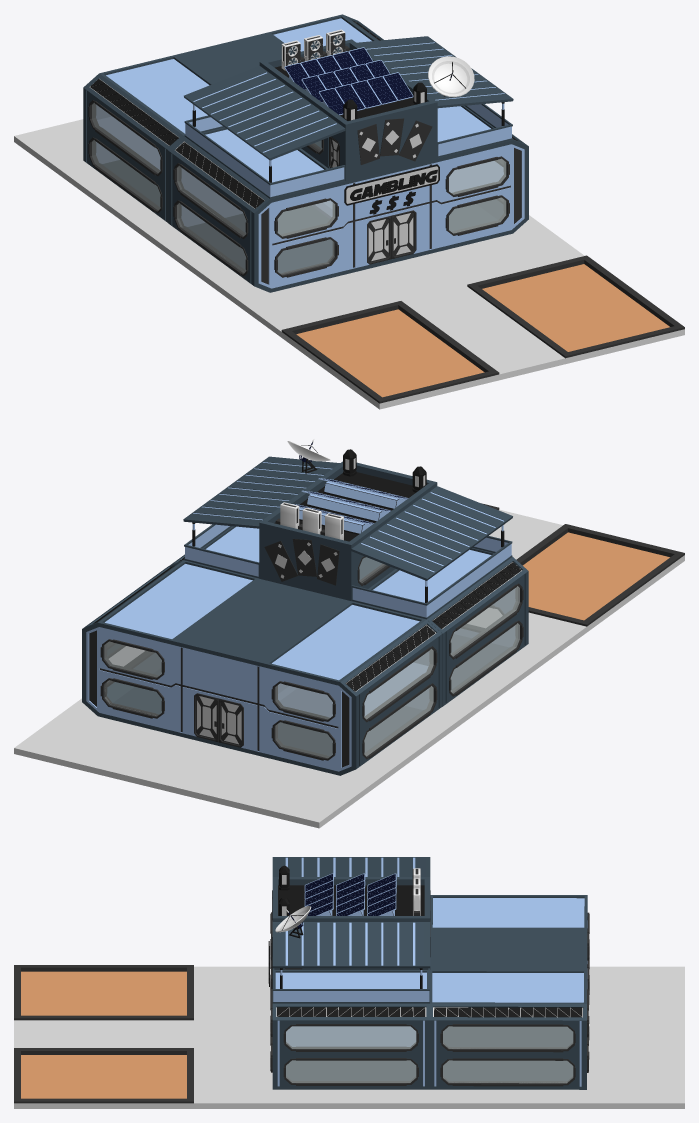
Rendered from CASINO.fbx.
The picture shows the model from 3 angles, top to bottom: view 1: azimuth 30°, elevation 25°; view 2: azimuth 150°, elevation 25°; view 3: azimuth 270°, elevation 25°; orthographic projection. The views are drawn at different scales.
Visible parts, largest first — view 1: Cube.009, Cube.001, Cube.008, Cube.012, Cube.017, Cube.011, Cube.002, Cube.003; view 2: Cube.012, Cube.008, Cube.017, Cube.009, Cube.001, Cube.013, Cube.014; view 3: Cube.009, Cube.012, Cube.008, Cube.001, Cube.017.
Boxes of the visible parts, x1,y1,x2,y2 form: Cube.009: (108, 199, 684, 409); Cube.001: (168, 106, 528, 292); Cube.008: (184, 29, 513, 198); Cube.012: (83, 14, 383, 222); Cube.017: (14, 119, 134, 210); Cube.011: (344, 164, 439, 214); Cube.002: (391, 210, 416, 259); Cube.003: (367, 216, 391, 264); Cube.012: (82, 560, 442, 775); Cube.008: (183, 439, 512, 619); Cube.017: (14, 698, 414, 828); Cube.009: (388, 503, 684, 758); Cube.001: (170, 526, 528, 706); Cube.013: (219, 698, 243, 747); Cube.014: (194, 693, 218, 742); Cube.009: (14, 965, 510, 1108); Cube.012: (429, 895, 589, 1089); Cube.008: (272, 857, 430, 1003); Cube.001: (270, 912, 429, 1089); Cube.017: (511, 966, 684, 1108).
Size of the model in its own units: 6.28 by 3.53 by 13.02.
